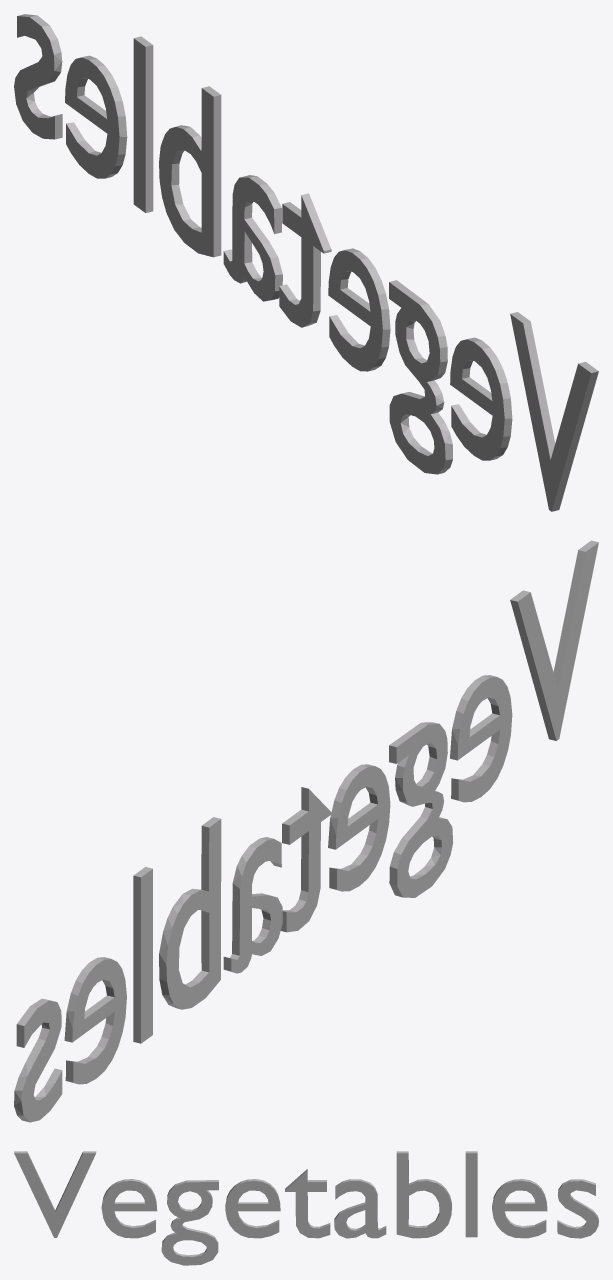
Rendered from SM_fruitDecoration_01.glb.
The picture shows the model from 3 angles, top to bottom: view 1: azimuth 30°, elevation 25°; view 2: azimuth 150°, elevation 25°; view 3: azimuth 270°, elevation 25°; orthographic projection. The views are drawn at different scales.
Parts seen in each view (by area): view 1: SM_fruitDecoration_01; view 2: SM_fruitDecoration_01; view 3: SM_fruitDecoration_01.
Part boxes in pixels (x1,y1,x2,y2): SM_fruitDecoration_01: [14, 14, 598, 511]; SM_fruitDecoration_01: [14, 540, 598, 1122]; SM_fruitDecoration_01: [14, 1151, 598, 1265].
Size of the model in its own units: 0.0146 by 0.4042 by 1.9.
Materials: 1 (1 with a texture image).
